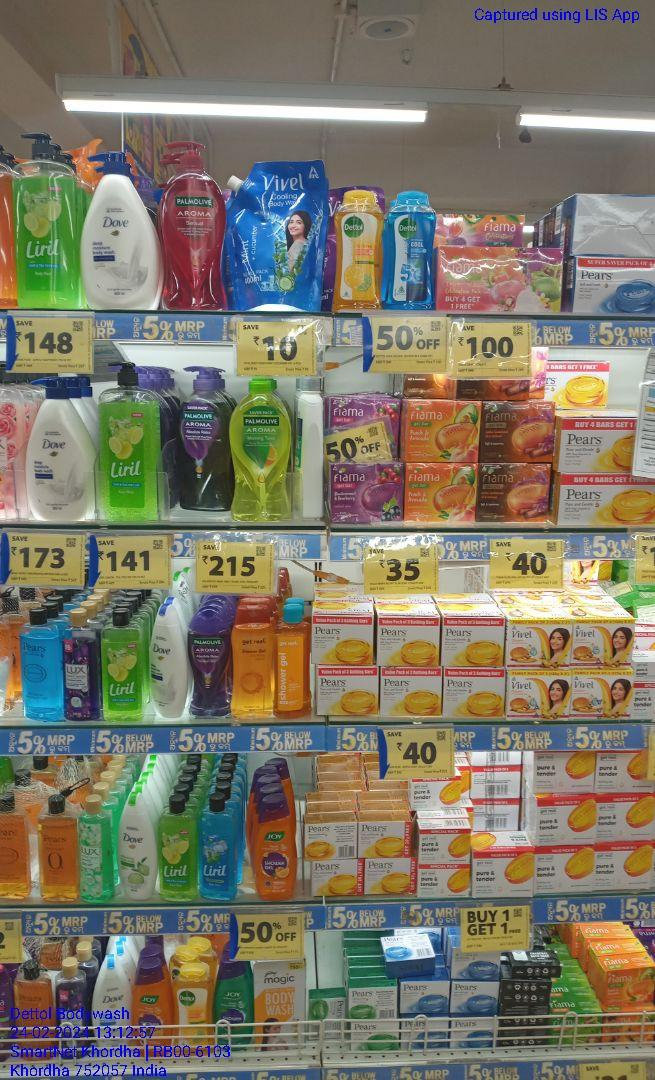Dettol_Bodywash_Cool: (384, 189, 431, 309)
Dettol_Bodywash_Refresh: (333, 181, 381, 309), (175, 965, 211, 1059)
Dove_Deep_Moisture_Body_Wash_250ML: (91, 953, 133, 1057), (150, 605, 188, 718)
Dove_Refreshing_Body_Wash_250ML: (117, 793, 157, 901)
Get_Real_Shower_Gel_Moisturising_Glycerin_300ML: (234, 603, 273, 719)
Joy_Shower_Gel_Mandarin_and_Lemongrass_250ML: (255, 792, 294, 898), (138, 953, 171, 1056)
Joy_Shower_Gel_Mint_and_Eucalyptus_250ML: (217, 964, 254, 1053)
Liril_Cooling_Mint_Body_Wash_250ML: (196, 794, 231, 903)
Liril_Lime_and_Tea_Tree_Oil_Body_Wash_250ML: (102, 609, 144, 721)
Lux_Black_Orchid_Scent_and_Juniper_Oil_Body_Wash_245ML: (65, 608, 99, 722), (59, 955, 86, 1063)
Lux_Body_Wash_Skin_Detox_Freesia_Scent_and_Alove_Vera_245ML: (76, 790, 115, 905)
Nivea_Shower_Gel_Waterlily_and_Oil_250ML: (156, 793, 194, 904)
Palmolive_Aroma_Relax_250ML: (192, 610, 228, 718)
Pears_Pure_Glycerin_and_Mint_Extracts_Body_Wash_250ML: (19, 610, 62, 727)
